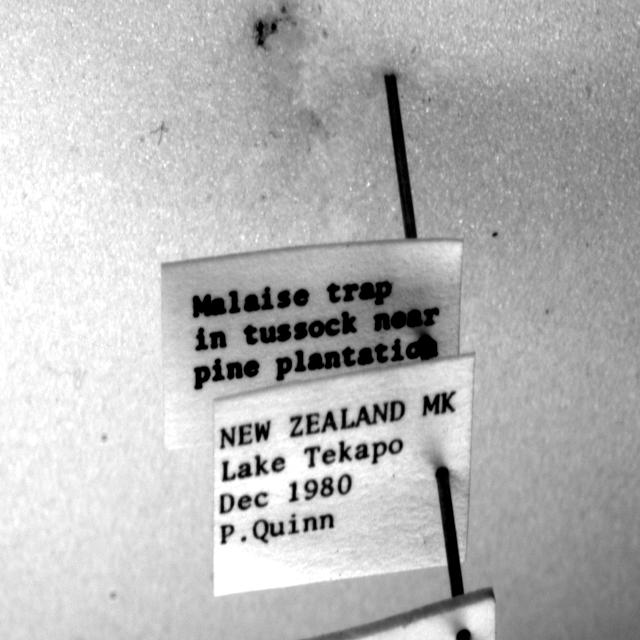typed_label: (214, 354, 474, 596), (161, 240, 462, 448)
